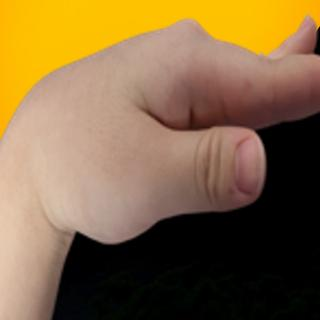Wait: (7, 14, 320, 251)
